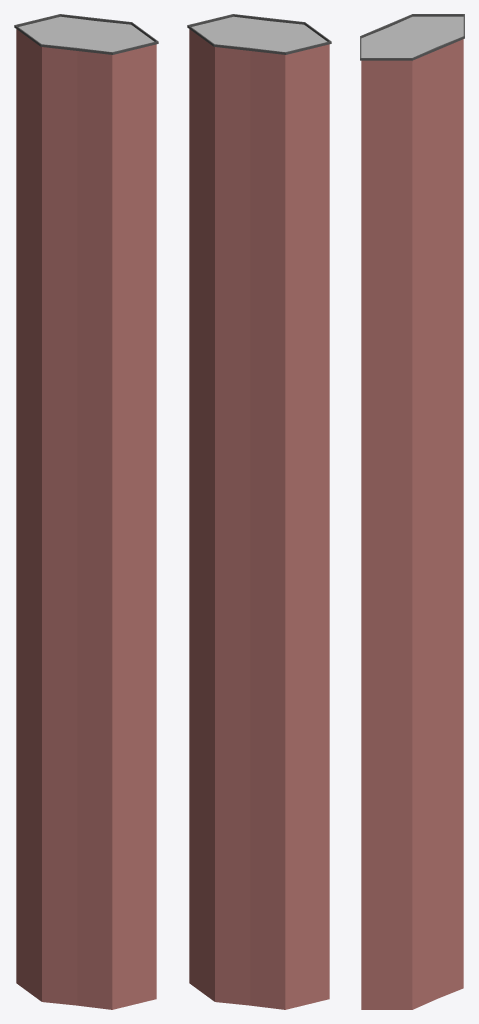
The model's file is Building5.fbx.
The picture shows the model from 3 angles, left to right: view 1: azimuth 30°, elevation 25°; view 2: azimuth 210°, elevation 25°; view 3: azimuth 270°, elevation 25°; orthographic projection.
Parts seen in each view (by area): view 1: Cube; view 2: Cube; view 3: Cube.
Part boxes in pixels (x1,y1,x2,y2): Cube: (14,14,158,1009); Cube: (187,14,331,1009); Cube: (360,14,464,1009).
Bounding box in the file's own units: 400 × 4006 × 400.
